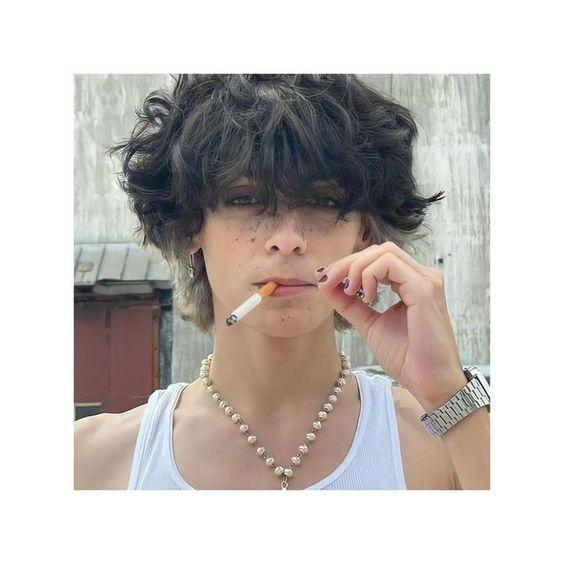cigarette: (226, 281, 279, 327)
